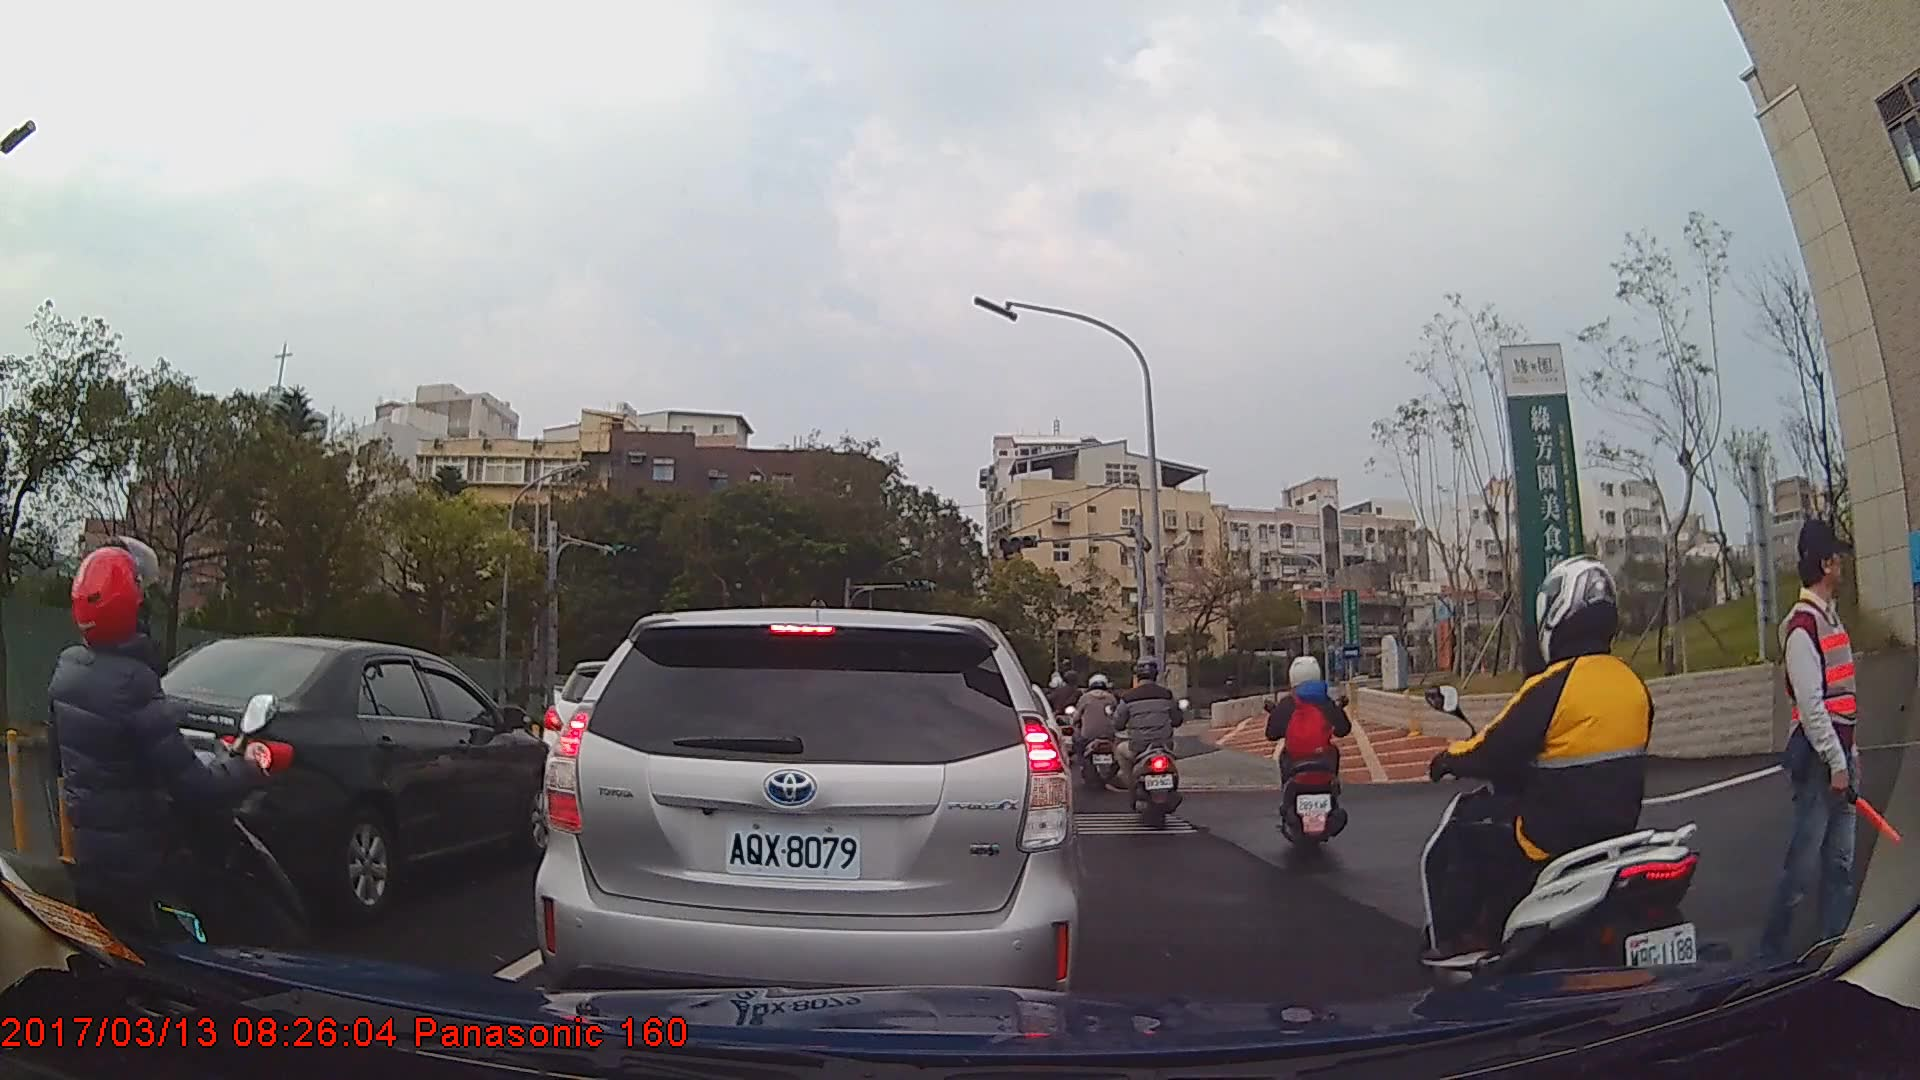pedestrian: (1755, 516, 1902, 972)
rider: (1, 533, 317, 1068), (1417, 552, 1723, 1029), (1268, 651, 1352, 850), (1114, 651, 1191, 833), (1078, 671, 1130, 792), (1052, 665, 1088, 765)
vehicle: (538, 604, 1088, 1022), (88, 635, 569, 922)
